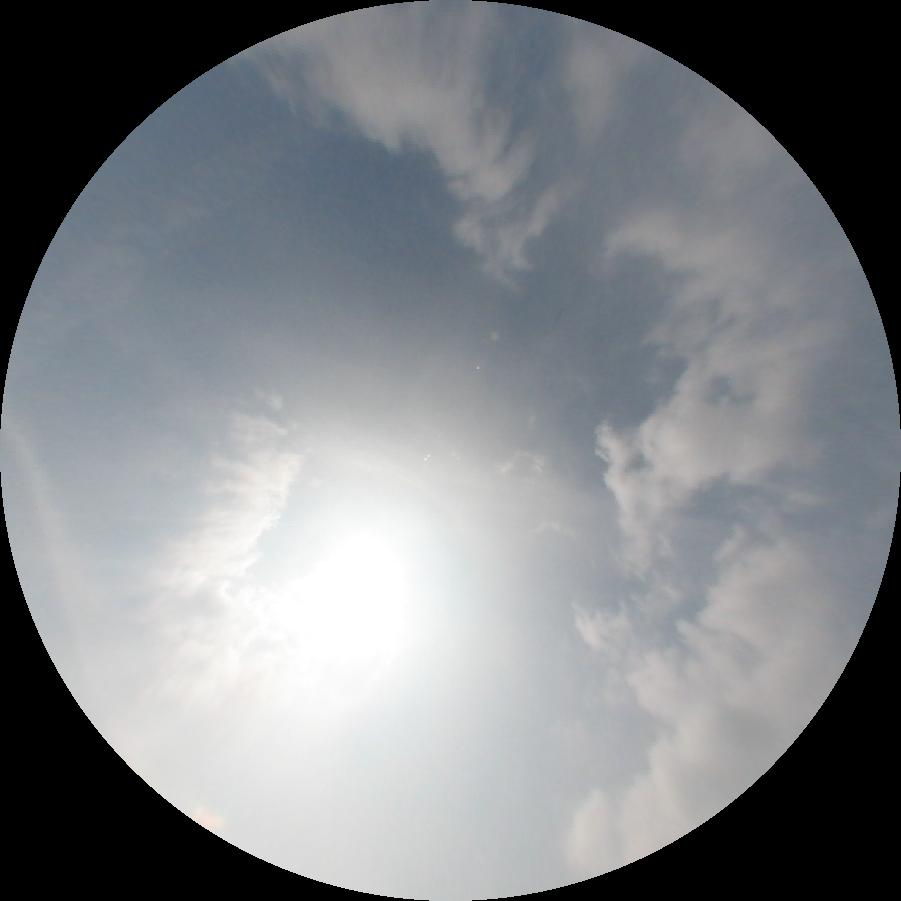sun: (339, 498, 463, 634)
